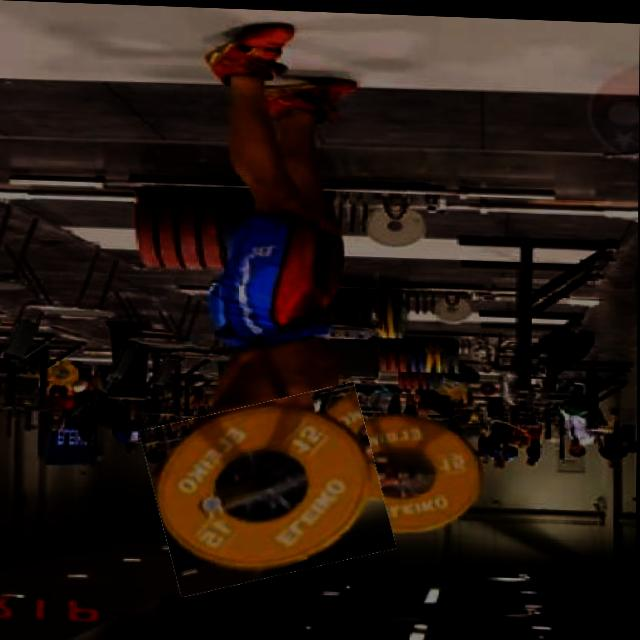barbell: (149, 387, 390, 589)
